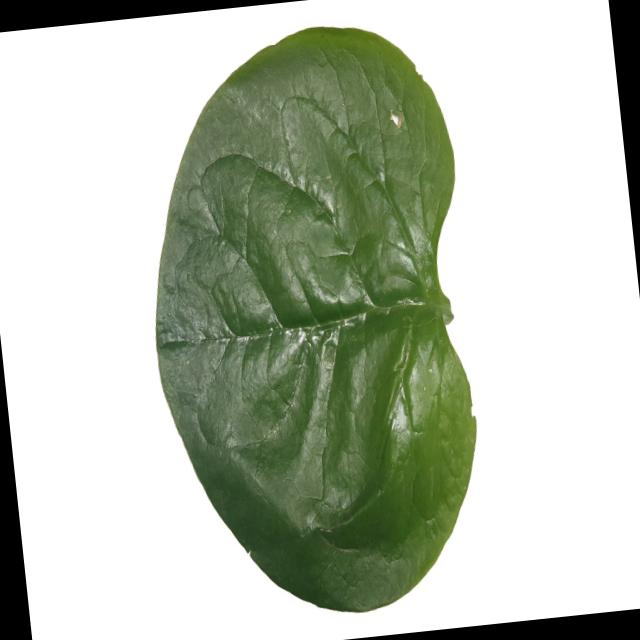Medicinal-Basale: (124, 12, 502, 630)
